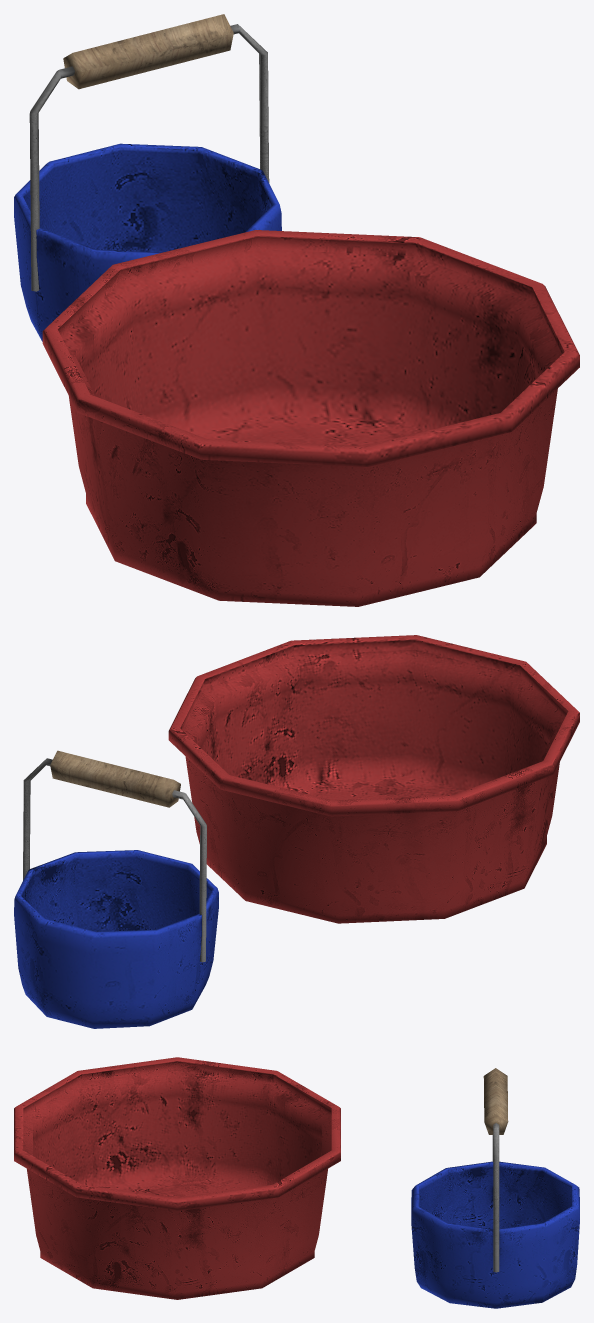
File: basin_pail_final.fbx
3 views of the same model, one above another, from view 1: azimuth 30°, elevation 25°; view 2: azimuth 150°, elevation 25°; view 3: azimuth 270°, elevation 25° (orthographic). The views are drawn at different scales.
Parts seen in each view (by area): view 1: basin, pail, pail_handle; view 2: basin, pail, pail_handle; view 3: basin, pail, pail_handle.
Boxes of the visible parts, left/top/right/bottom form: basin: left=42, top=230, right=579, bottom=606; pail: left=14, top=143, right=281, bottom=341; pail_handle: left=29, top=14, right=269, bottom=291; basin: left=168, top=635, right=579, bottom=923; pail: left=14, top=850, right=218, bottom=1028; pail_handle: left=23, top=750, right=206, bottom=962; basin: left=14, top=1057, right=340, bottom=1299; pail: left=411, top=1161, right=579, bottom=1308; pail_handle: left=483, top=1068, right=508, bottom=1272.
Bounding box in the file's own units: 22.83 × 13.8 × 37.59.
Materials: 1 (1 with a texture image).
